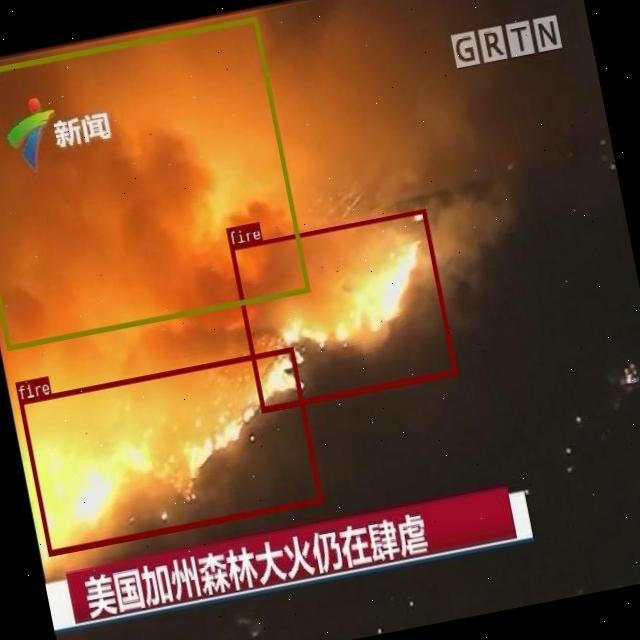fire: (18, 347, 322, 556), (229, 207, 457, 411)
smoke: (0, 15, 309, 349)
